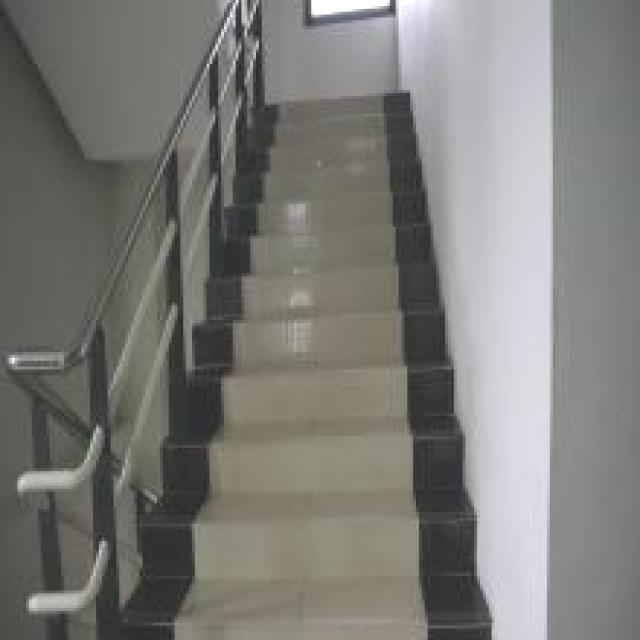upstair: (167, 129, 434, 640)
